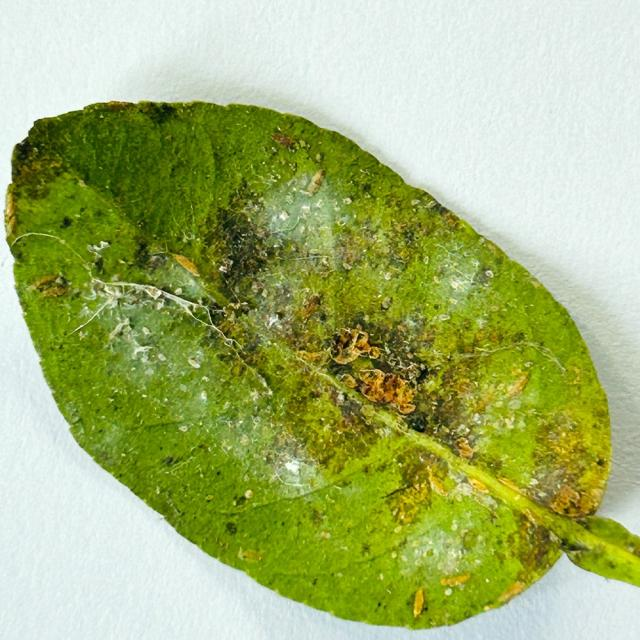Bacterial_Blight: (288, 384, 394, 477), (531, 414, 605, 508), (334, 210, 424, 281), (215, 297, 294, 377), (263, 186, 335, 247), (103, 307, 175, 364), (362, 320, 425, 377), (241, 277, 303, 333), (11, 142, 67, 203), (429, 388, 483, 444), (425, 467, 492, 510), (355, 368, 416, 413), (434, 359, 487, 410), (469, 371, 527, 415), (273, 312, 324, 358), (388, 477, 432, 529), (329, 328, 378, 364), (519, 521, 555, 567), (264, 443, 305, 481), (215, 315, 256, 351), (164, 446, 213, 476), (478, 404, 519, 433), (337, 231, 369, 266), (27, 274, 71, 299), (546, 429, 577, 457), (96, 283, 133, 303), (497, 580, 526, 603), (172, 253, 201, 276), (3, 194, 18, 235), (505, 373, 530, 397), (277, 212, 305, 233), (496, 476, 525, 496), (306, 169, 325, 196), (108, 320, 130, 343), (331, 347, 359, 364), (473, 267, 495, 287), (428, 474, 447, 495), (143, 254, 166, 271), (237, 547, 263, 562), (440, 574, 470, 587), (522, 508, 541, 528), (241, 201, 263, 218), (440, 209, 459, 228), (87, 241, 111, 256), (413, 587, 425, 617), (361, 386, 382, 402), (360, 369, 382, 384), (233, 491, 252, 507), (217, 258, 234, 275), (355, 331, 371, 349), (310, 508, 325, 527), (340, 374, 357, 388), (450, 278, 467, 291), (231, 362, 245, 377), (105, 101, 131, 109), (148, 287, 162, 301), (393, 220, 408, 233), (361, 404, 376, 417), (251, 279, 264, 294), (396, 503, 406, 521), (163, 455, 178, 467), (225, 522, 238, 535), (571, 370, 581, 385), (295, 140, 308, 151), (549, 531, 560, 543), (529, 279, 542, 289), (70, 414, 81, 425), (184, 232, 197, 241), (240, 435, 250, 446), (78, 330, 88, 341), (55, 276, 66, 286), (230, 301, 242, 310), (319, 530, 331, 539), (227, 310, 236, 322), (111, 272, 121, 282), (279, 211, 289, 221), (237, 546, 244, 560), (438, 314, 450, 322), (301, 204, 311, 213), (244, 489, 254, 498), (142, 326, 151, 336), (155, 301, 164, 311), (529, 477, 539, 486), (99, 240, 109, 249), (448, 550, 457, 559), (485, 270, 494, 279), (179, 383, 188, 392), (315, 199, 324, 208), (315, 153, 323, 163), (164, 134, 173, 142), (279, 157, 287, 166), (394, 525, 402, 534), (450, 522, 458, 531), (343, 197, 352, 205), (218, 265, 227, 273), (174, 287, 183, 295), (444, 588, 453, 596), (205, 494, 214, 501), (179, 425, 188, 432), (411, 199, 420, 206), (201, 391, 208, 400), (441, 426, 450, 433), (427, 200, 436, 207), (201, 376, 209, 383), (484, 605, 492, 612), (118, 259, 127, 265), (391, 551, 397, 559), (379, 573, 385, 580), (156, 486, 161, 494), (107, 397, 115, 402), (292, 187, 298, 193)
Lemon: (6, 101, 639, 634)
